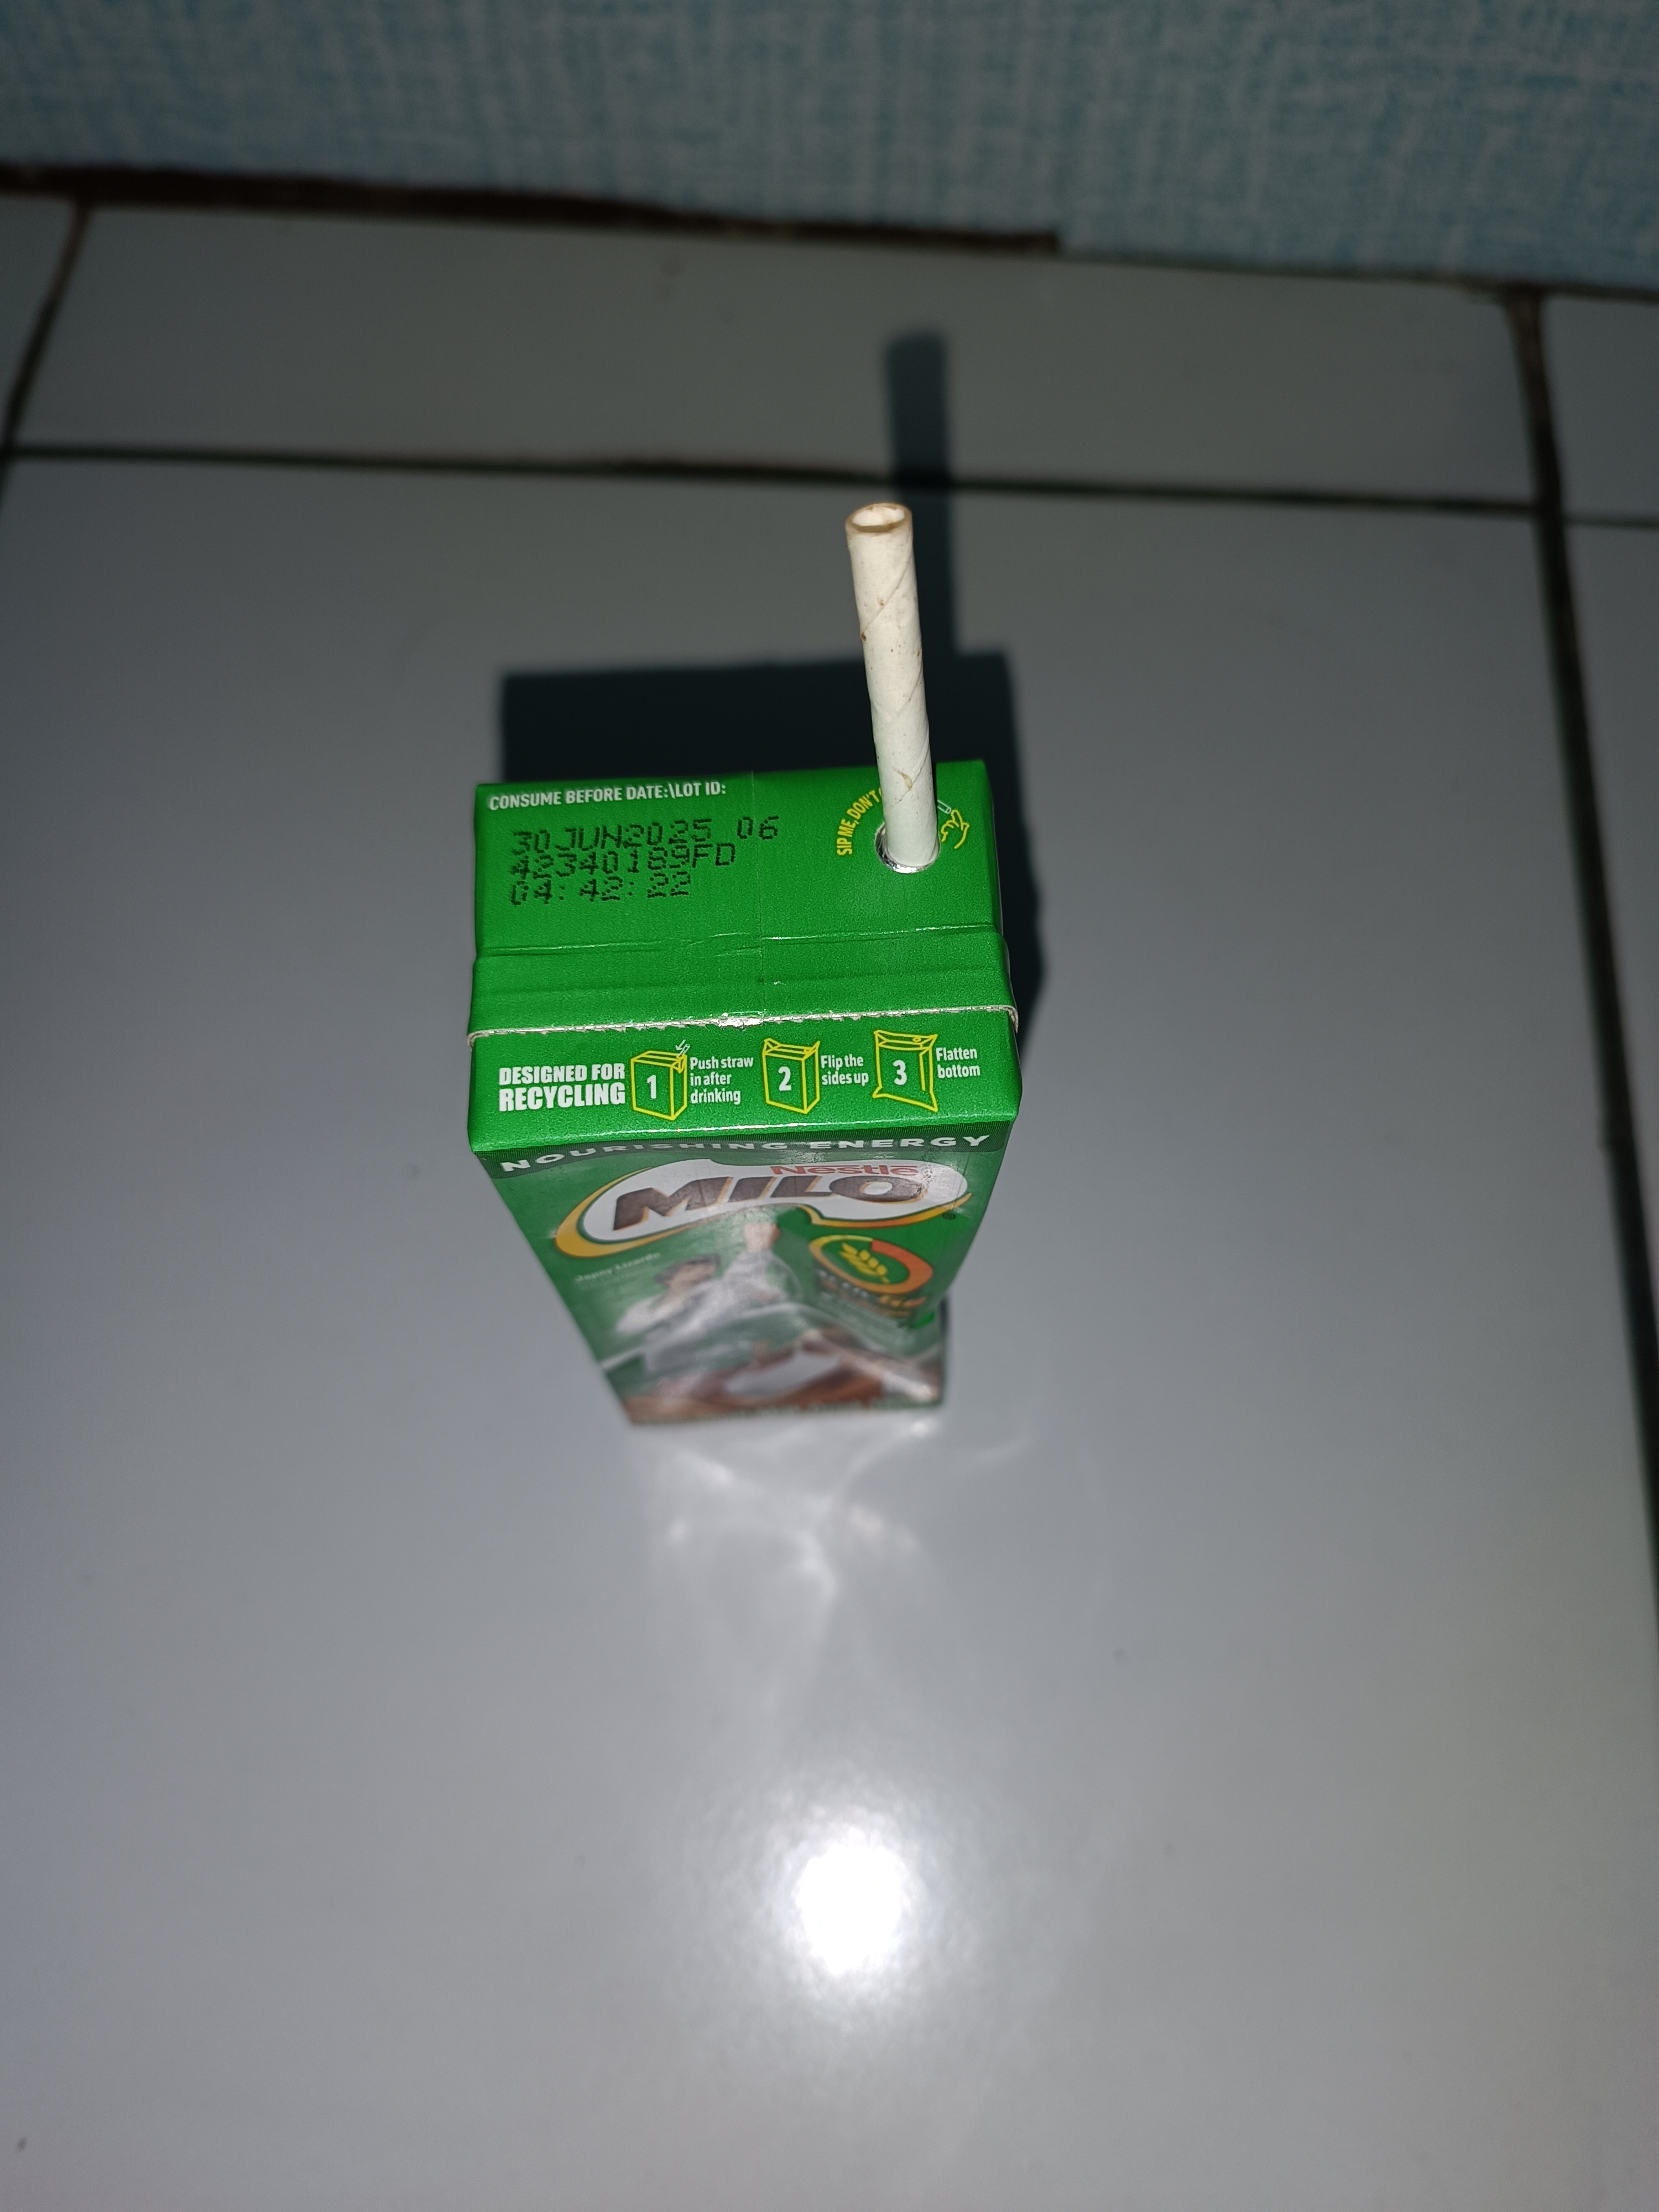Juice Box: (324, 531, 1091, 1538)
